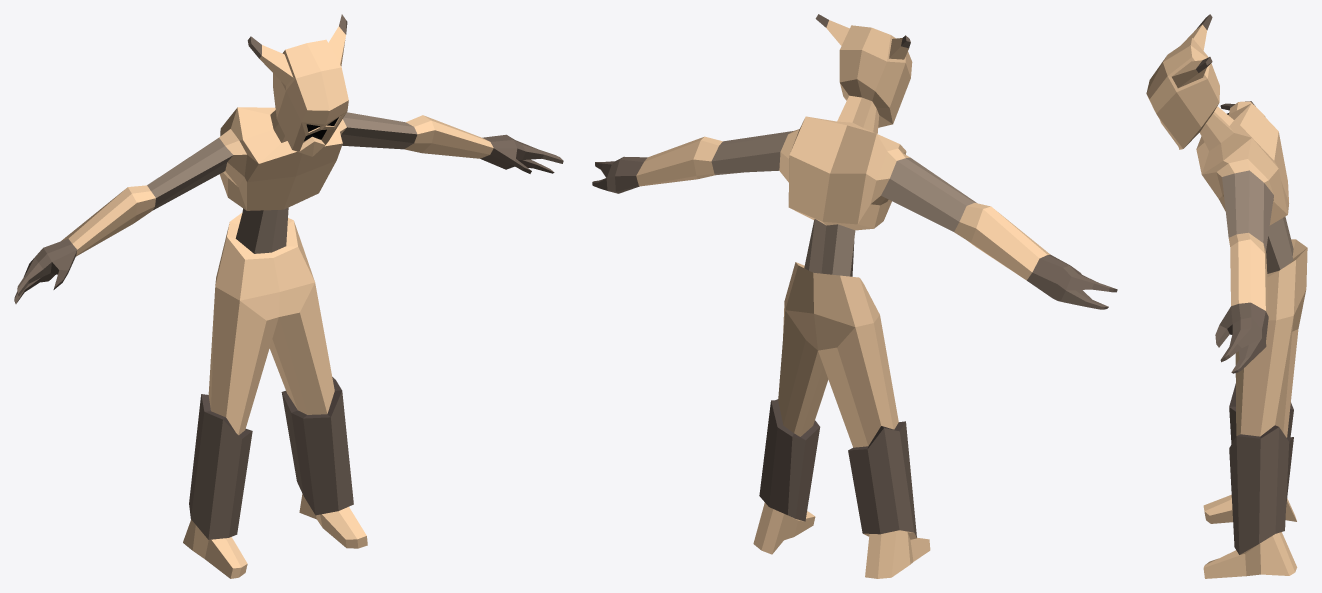
File: scene_97Ekwx9eO0.glb
The picture shows the model from 3 angles, left to right: view 1: azimuth 30°, elevation 25°; view 2: azimuth 150°, elevation 25°; view 3: azimuth 270°, elevation 25°; orthographic projection. The views are drawn at different scales.
Parts seen in each view (by area): view 1: Cube; view 2: Cube; view 3: Cube.
Boxes of the visible parts, x1,y1,x2,y2 form: Cube: (14, 14, 563, 578); Cube: (592, 14, 1117, 578); Cube: (1146, 14, 1307, 578).
Size of the model in its own units: 8.27 by 7.77 by 2.21.
Materials: 1 (1 with a texture image).
